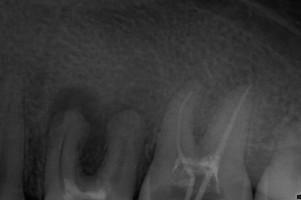Dental Caries: (47, 53, 168, 175)
